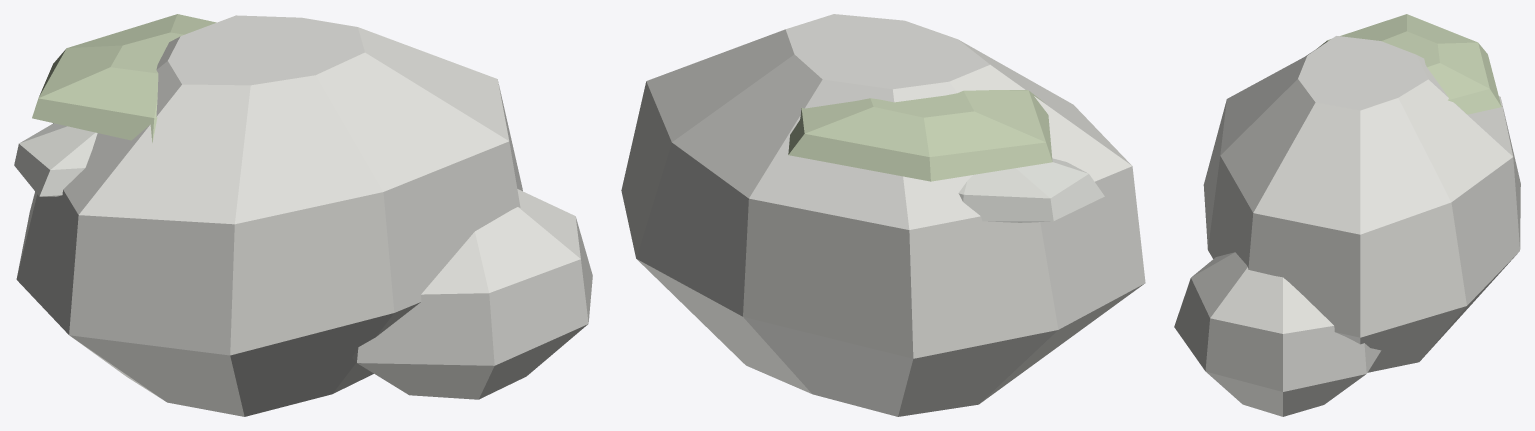
File: mossy_boulder.glb
3 renders of one model, left to right at view 1: azimuth 30°, elevation 25°; view 2: azimuth 150°, elevation 25°; view 3: azimuth 270°, elevation 25°, orthographic. The views are drawn at different scales.
Visible parts, largest first — view 1: mossy_boulder; view 2: mossy_boulder; view 3: mossy_boulder.
Part boxes in pixels (x1,y1,x2,y2): mossy_boulder: (14, 14, 592, 416); mossy_boulder: (621, 14, 1145, 416); mossy_boulder: (1174, 14, 1520, 416).
Size of the model in its own units: 1.92 by 1.14 by 1.4.
